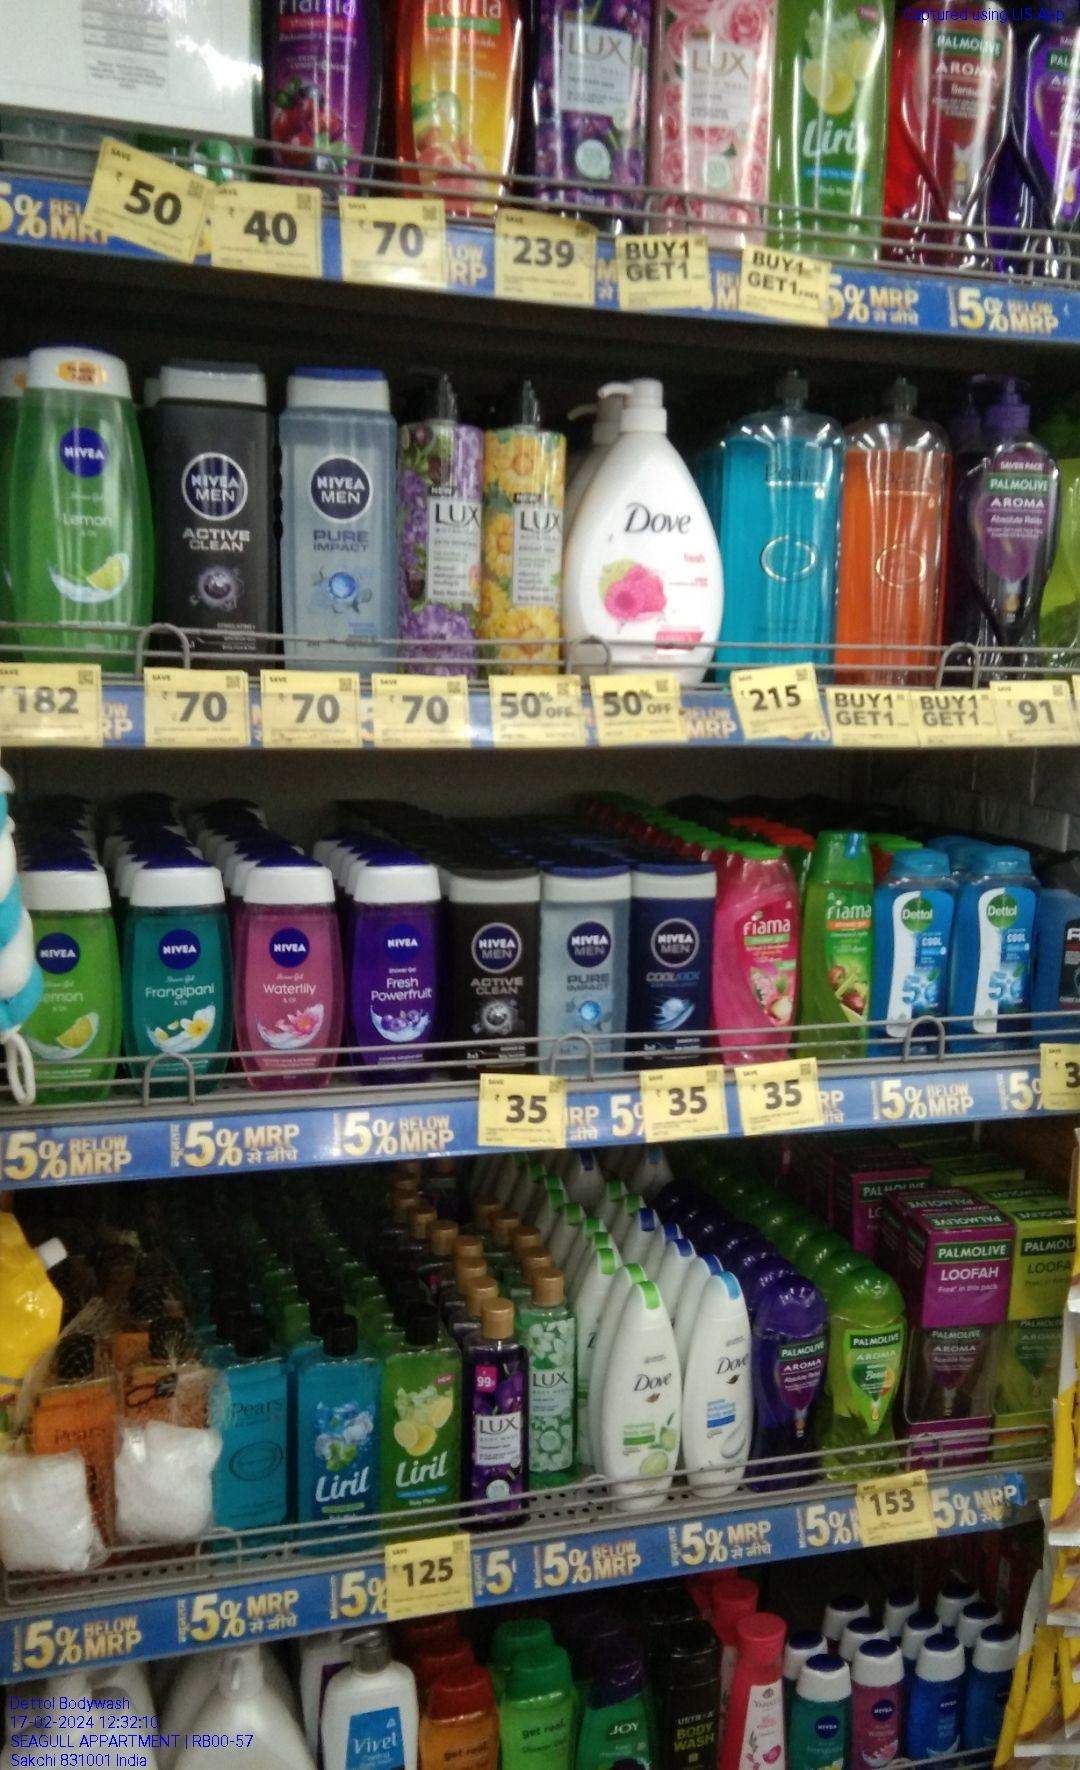Dettol_Bodywash_Cool: (950, 853, 1029, 1047), (875, 845, 945, 1054)
Dove_Gentle_Exfoliating_Body_Wash_250ML: (689, 1271, 752, 1496)
Dove_Refreshing_Body_Wash_250ML: (599, 1279, 685, 1513)
Fiama_Shower_Gel_Lemongrass_and_Jojoba_250ML: (806, 829, 870, 1062)
Fiama_Shower_Gel_Patchouli_and_Macadamia_250ML: (713, 839, 795, 1061)
Liril_Cooling_Mint_Body_Wash_250ML: (300, 1331, 382, 1549), (384, 1316, 463, 1537)
Lux_Black_Orchid_Scent_and_Juniper_Oil_Body_Wash_245ML: (468, 1298, 531, 1529)
Lux_Body_Wash_Skin_Detox_Freesia_Scent_and_Alove_Vera_245ML: (534, 1264, 575, 1474)
Nivea_Shower_Gel_Frangipani_and_Oil_250ML: (126, 857, 225, 1096)
Nivea_Shower_Gel_Fresh_Powerfruit_250ML: (347, 858, 436, 1082)
Nivea_Shower_Gel_Lemon_and_Oil_250ML: (29, 861, 119, 1100)
Nivea_Shower_Gel_Waterlily_and_Oil_250ML: (230, 860, 335, 1087)
Palmolive_Aroma_Morning_Tonic_Shower_Gel_250ML: (826, 1272, 899, 1473)
Palmolive_Aroma_Relax_250ML: (755, 1282, 823, 1486)
